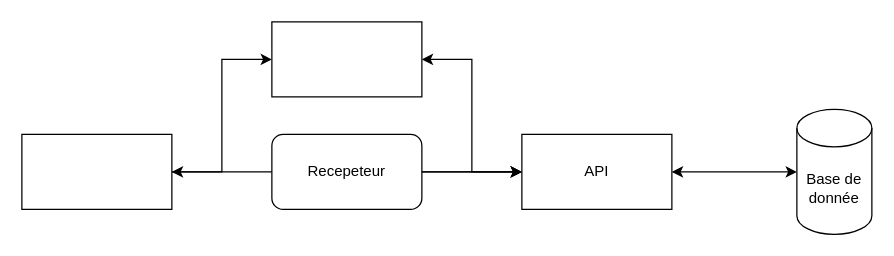
The diagram is 894 pixels wide and 256 high, and some of its shapes have lost their labels. Here are the shapes that lost their labels. From the top down, the centre of each, then its label:
At pixel 346 59: "Gestionnaire d'horraire".
At pixel 96 171: "UI".
